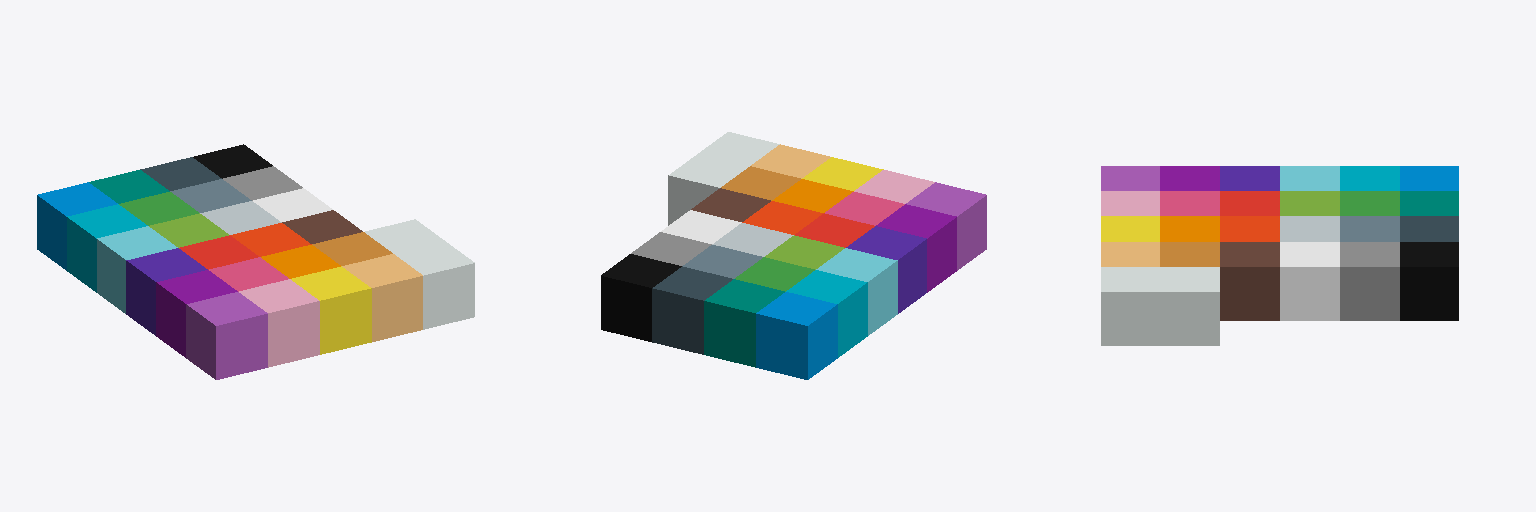
File: Palette.obj
3 renders of one model, left to right at view 1: azimuth 30°, elevation 25°; view 2: azimuth 150°, elevation 25°; view 3: azimuth 270°, elevation 25°, orthographic.
Parts seen in each view (by area): view 1: group[number redacted], group[number redacted], group[number redacted], group[number redacted], group[number redacted], group[number redacted], group[number redacted], group[number redacted], group[number redacted], group[number redacted], group[number redacted], group[number redacted] (+14 smaller); view 2: group[number redacted], group[number redacted], group[number redacted], group[number redacted], group[number redacted], group[number redacted], group[number redacted], group[number redacted], group[number redacted], group[number redacted], group[number redacted], group[number redacted] (+14 smaller); view 3: group[number redacted], group[number redacted], group[number redacted], group[number redacted], group[number redacted], group[number redacted], group[number redacted], group[number redacted], group[number redacted], group[number redacted], group[number redacted], group[number redacted] (+14 smaller).
Boxes of the visible parts, x1,y1,x2,y2 form: group[number redacted]: [186, 292, 267, 379]; group[number redacted]: [291, 266, 371, 354]; group[number redacted]: [239, 279, 319, 367]; group[number redacted]: [394, 241, 474, 329]; group[number redacted]: [342, 254, 422, 341]; group[number redacted]: [156, 270, 237, 357]; group[number redacted]: [67, 204, 147, 292]; group[number redacted]: [37, 182, 117, 270]; group[number redacted]: [126, 248, 207, 335]; group[number redacted]: [97, 226, 177, 313]; group[number redacted]: [149, 213, 228, 247]; group[number redacted]: [170, 179, 251, 212]; group[number redacted]: [756, 292, 837, 379]; group[number redacted]: [652, 266, 732, 354]; group[number redacted]: [704, 279, 784, 367]; group[number redacted]: [601, 254, 681, 341]; group[number redacted]: [786, 270, 867, 357]; group[number redacted]: [906, 182, 986, 270]; group[number redacted]: [876, 204, 956, 292]; group[number redacted]: [816, 248, 897, 335]; group[number redacted]: [846, 226, 926, 313]; group[number redacted]: [668, 154, 749, 225]; group[number redacted]: [795, 213, 874, 247]; group[number redacted]: [854, 170, 934, 203]; group[number redacted]: [1220, 242, 1279, 320]; group[number redacted]: [1280, 242, 1339, 320]; group[number redacted]: [1340, 242, 1399, 320]; group[number redacted]: [1160, 267, 1219, 345]; group[number redacted]: [1101, 267, 1159, 345]; group[number redacted]: [1400, 242, 1458, 320]; group[number redacted]: [1160, 216, 1219, 241]; group[number redacted]: [1220, 216, 1279, 241]; group[number redacted]: [1280, 216, 1339, 241]; group[number redacted]: [1340, 216, 1399, 241]; group[number redacted]: [1101, 216, 1159, 241]; group[number redacted]: [1400, 216, 1458, 241].
Bounding box in the file's own units: 0.1 × 0.02 × 0.12.